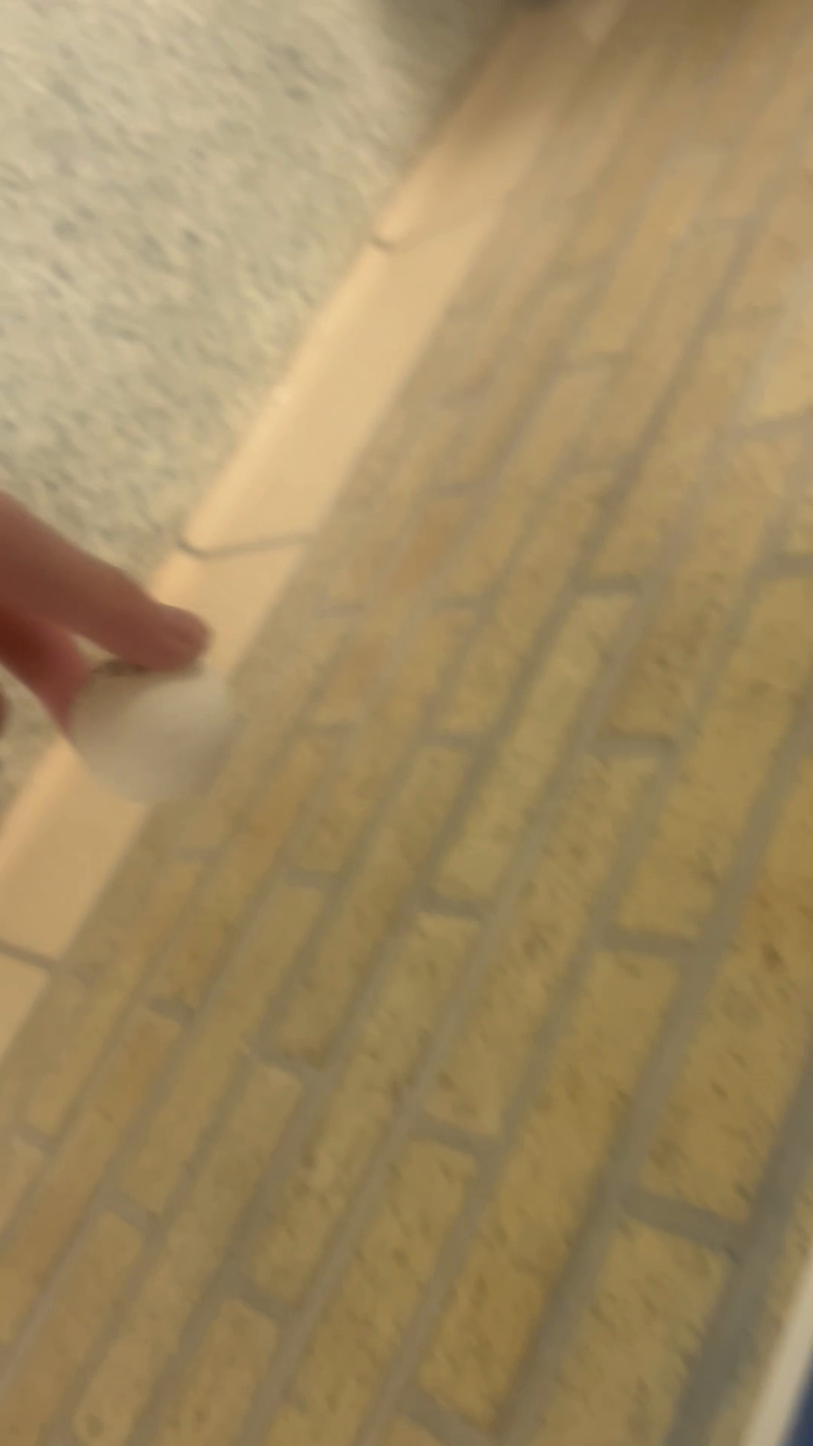Ball: (50, 603, 244, 816)
